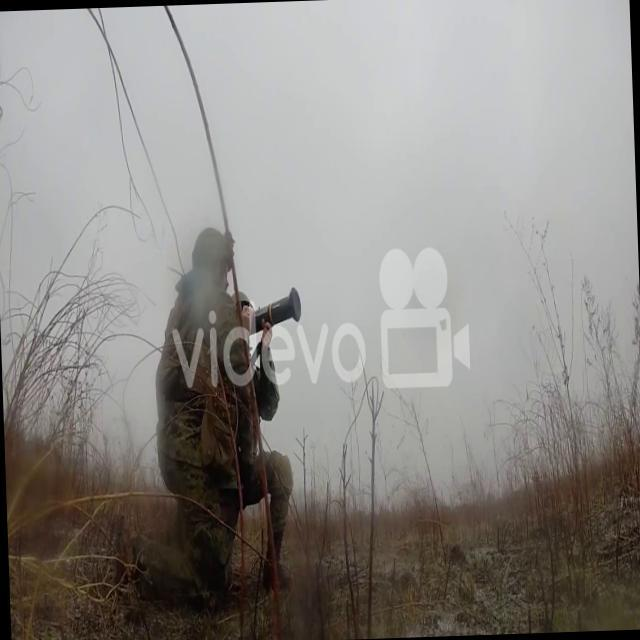rocket: (248, 288, 302, 348)
